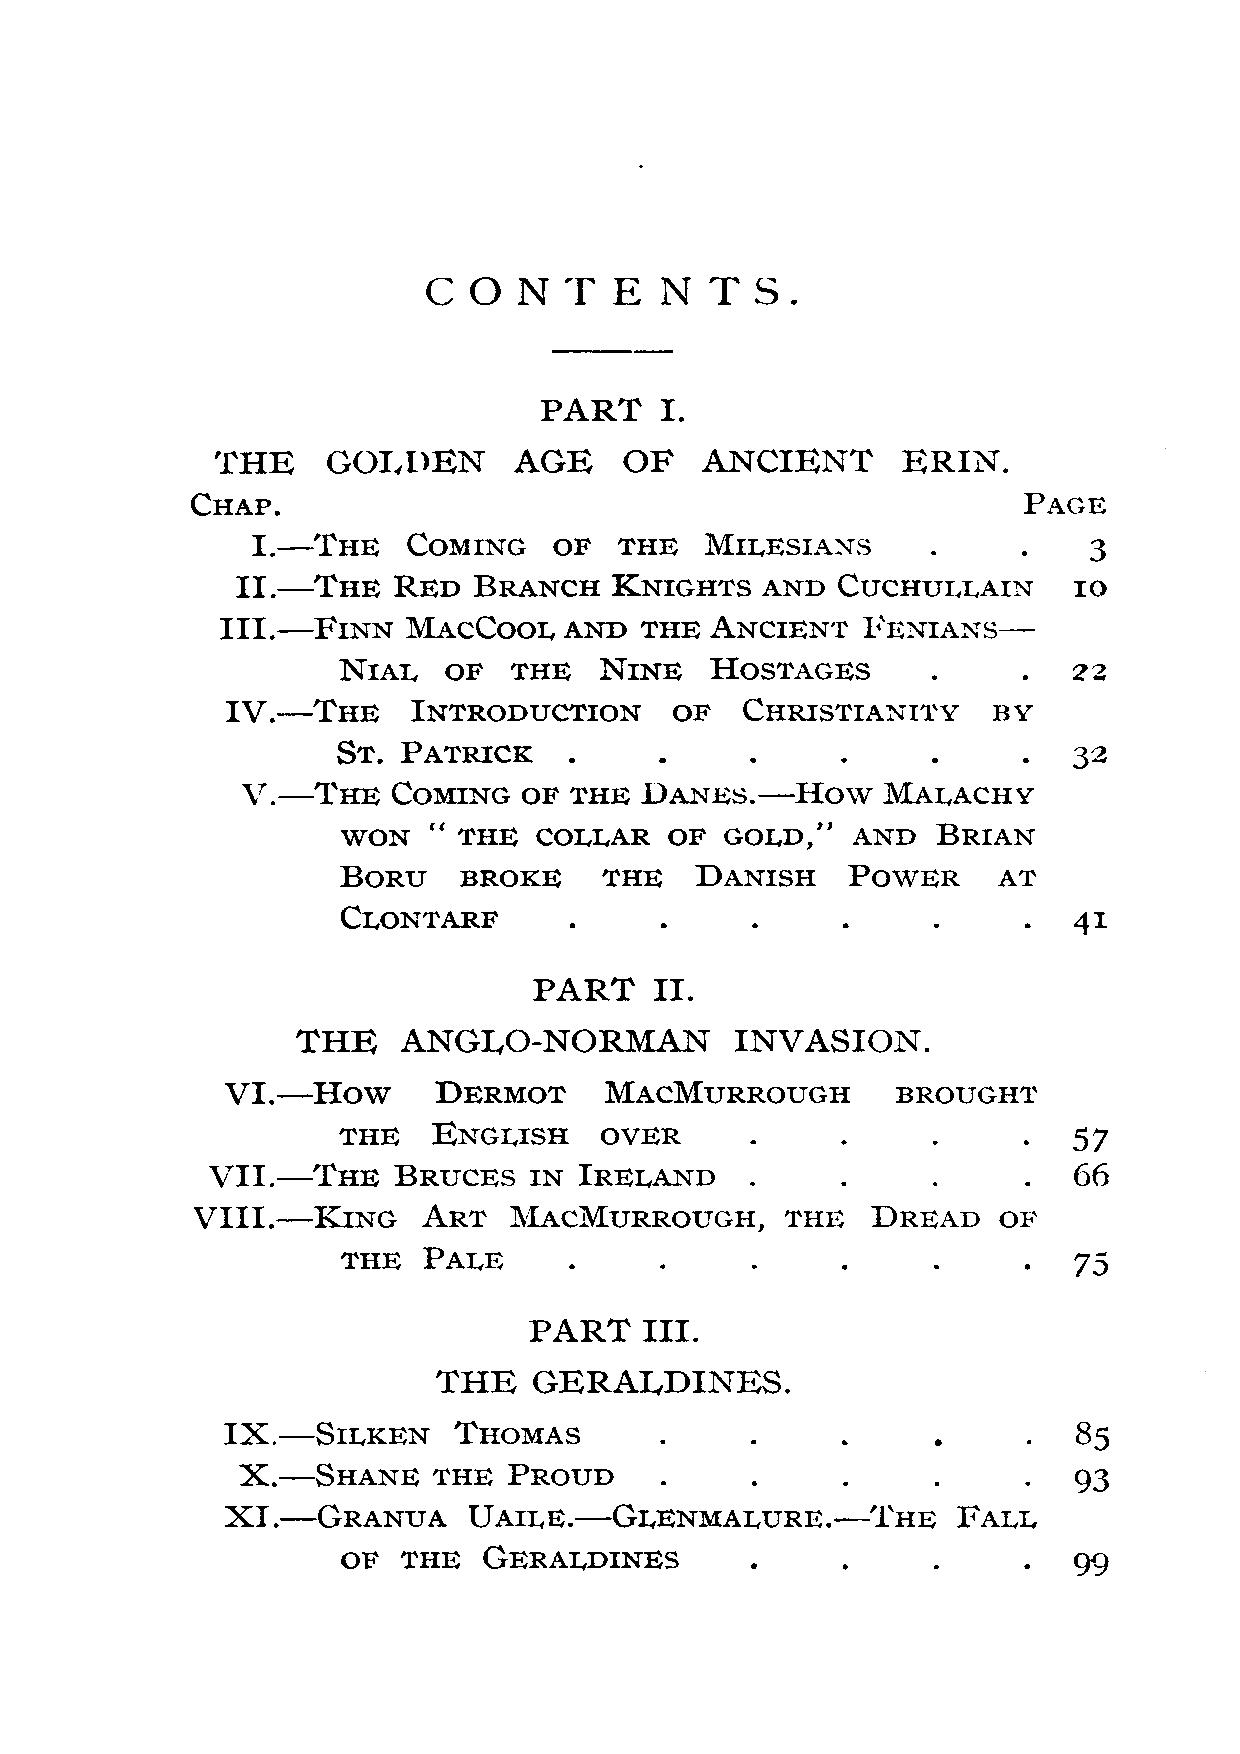TOC_chapter: (239, 778, 1035, 931), (221, 1074, 1039, 1147), (223, 695, 1033, 768), (221, 1502, 1037, 1571), (192, 1202, 1037, 1270), (217, 612, 1037, 680), (234, 568, 1033, 600), (248, 527, 870, 556), (207, 1161, 717, 1189), (223, 1416, 582, 1449), (235, 1461, 616, 1487)
TOC_pagenumber: (1071, 1416, 1110, 1452), (1071, 906, 1106, 939), (1070, 1465, 1110, 1494), (1071, 1159, 1108, 1186), (1070, 1251, 1108, 1276), (1070, 1127, 1110, 1151), (1071, 1551, 1108, 1577), (1070, 743, 1106, 769), (1072, 576, 1107, 599), (1072, 662, 1108, 682), (1083, 538, 1110, 562)
chapter: (212, 393, 1009, 475), (295, 969, 930, 1056), (432, 1315, 792, 1393), (423, 275, 780, 305)
